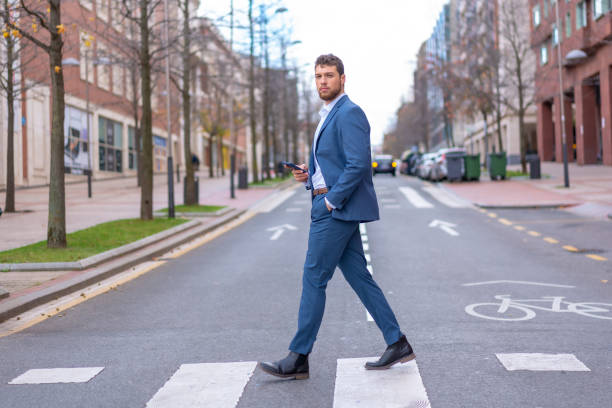yaya: (248, 49, 428, 390)
